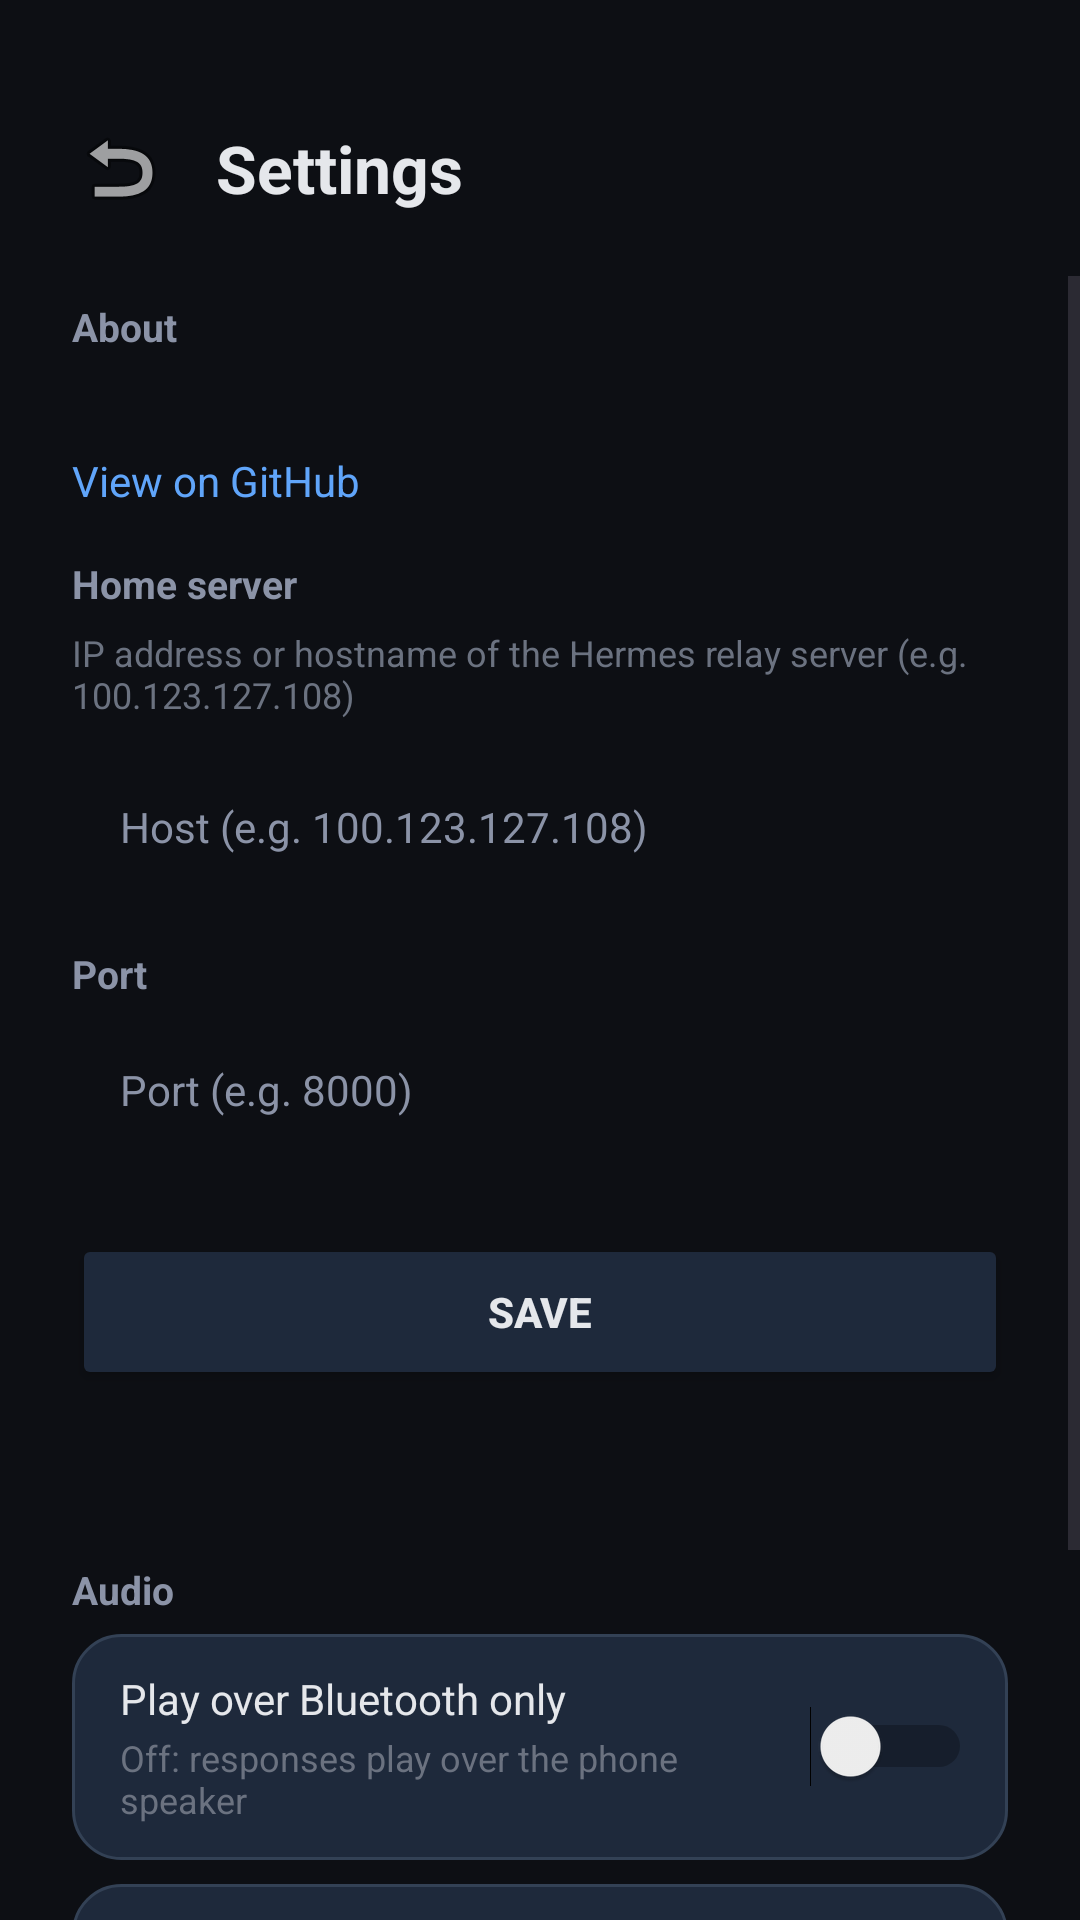

Icon bounding boxes for this 1080px x 1920px phone screenshot, format (x1, y1, x2, y2):
Back: (90, 140, 153, 197)
